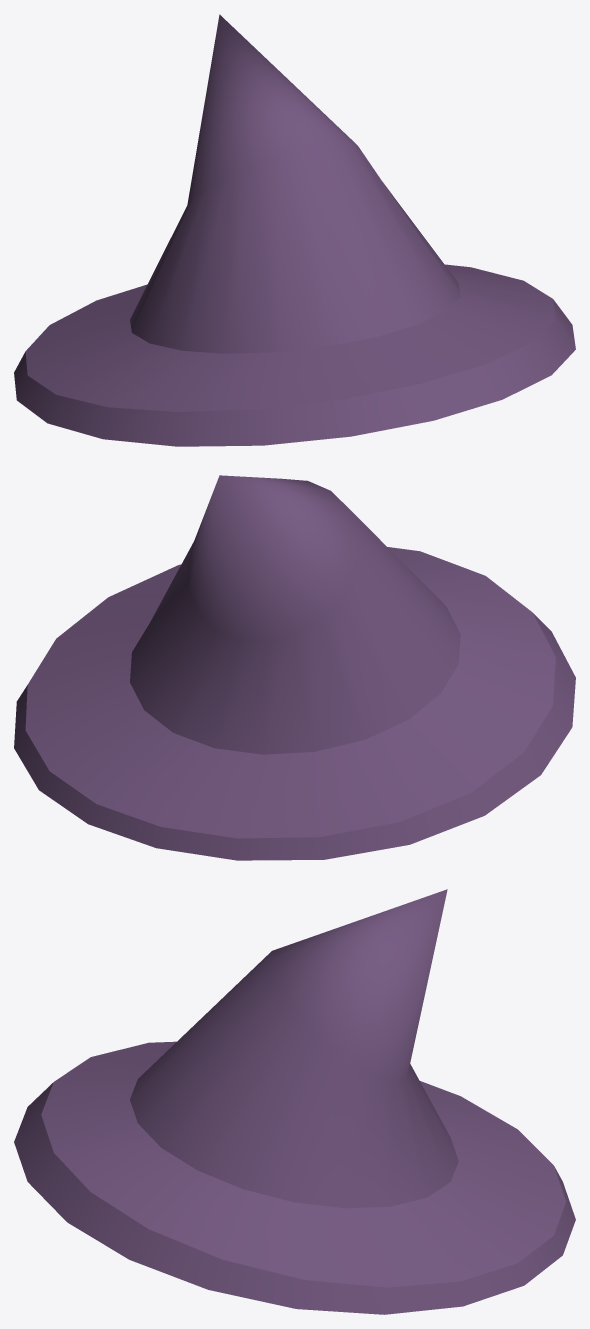
File: duck (witch) hat tester.fbx
The picture shows the model from 3 angles, top to bottom: view 1: azimuth 30°, elevation 25°; view 2: azimuth 150°, elevation 25°; view 3: azimuth 270°, elevation 25°; orthographic projection.
Parts seen in each view (by area): view 1: polySurface339; view 2: polySurface339; view 3: polySurface339.
Boxes of the visible parts, x1,y1,x2,y2 form: polySurface339: (14, 14, 575, 446); polySurface339: (14, 475, 575, 860); polySurface339: (14, 889, 575, 1314).
Size of the model in its own units: 1.95 by 1.23 by 1.9.
